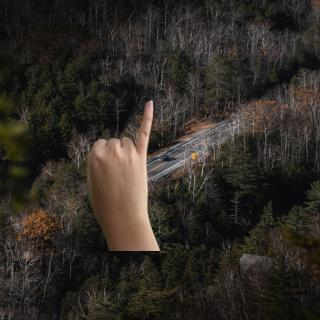Fine: (78, 98, 168, 250)
